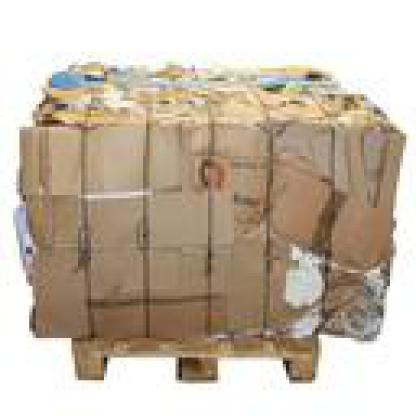CARDBOARD: (16, 62, 400, 341)
